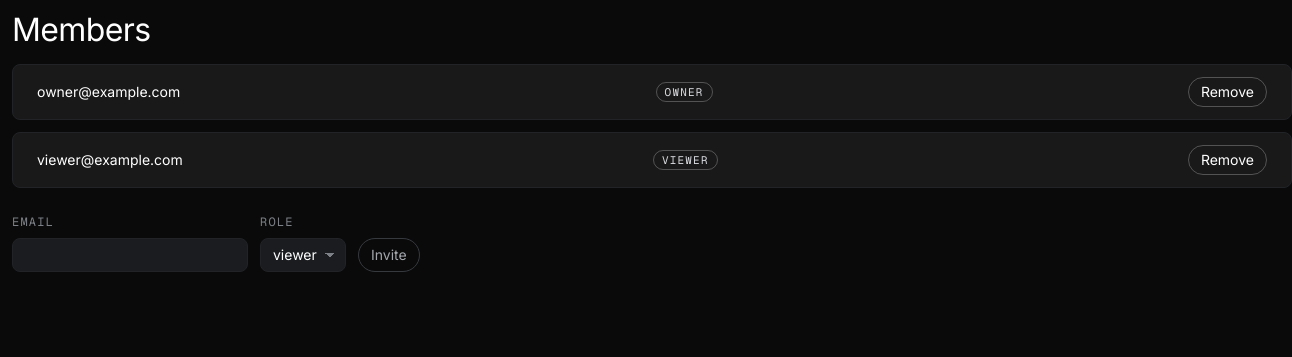
MembersTab › lets an owner invite a member
expect the text "owner@example.com" is shown: met, box [37,82,180,102]
Type "new@example.com" into the field labelled "Email".
click(130, 255); type("new@example.com")  # box [12,238,248,272]
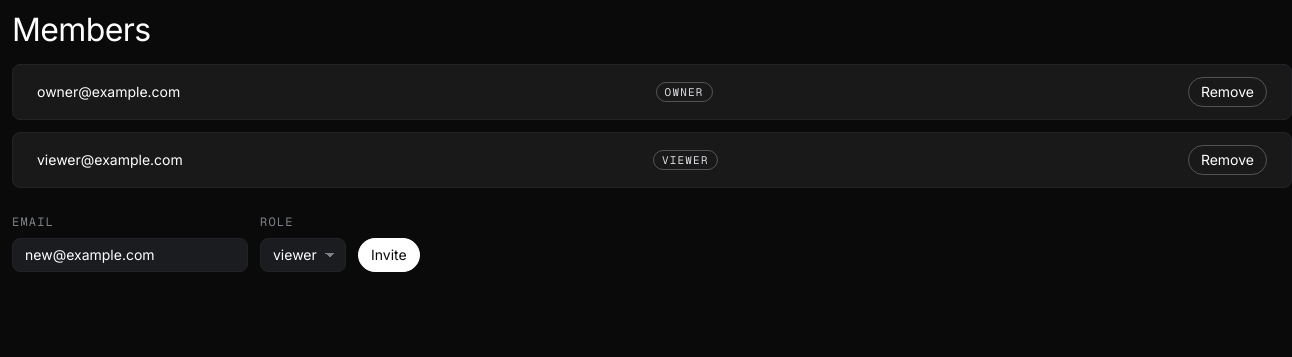
Click the button "Invite".
click(389, 255)  # box [358,238,420,272]
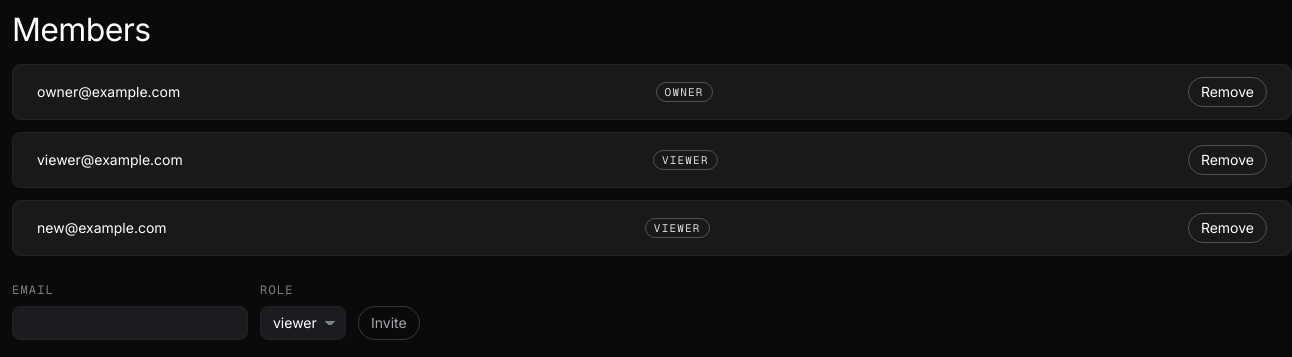
expect the text "new@example.com" is shown: met, box [37,218,167,238]
